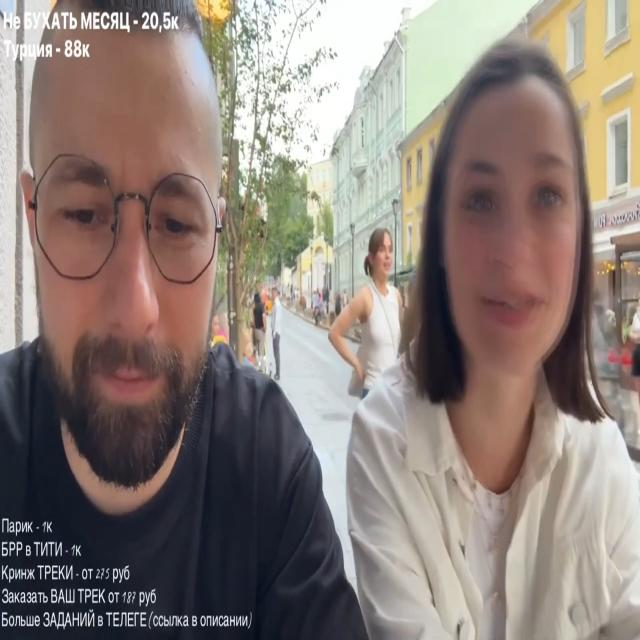Person: (0, 23, 344, 640), (331, 31, 640, 639), (328, 230, 406, 399)
